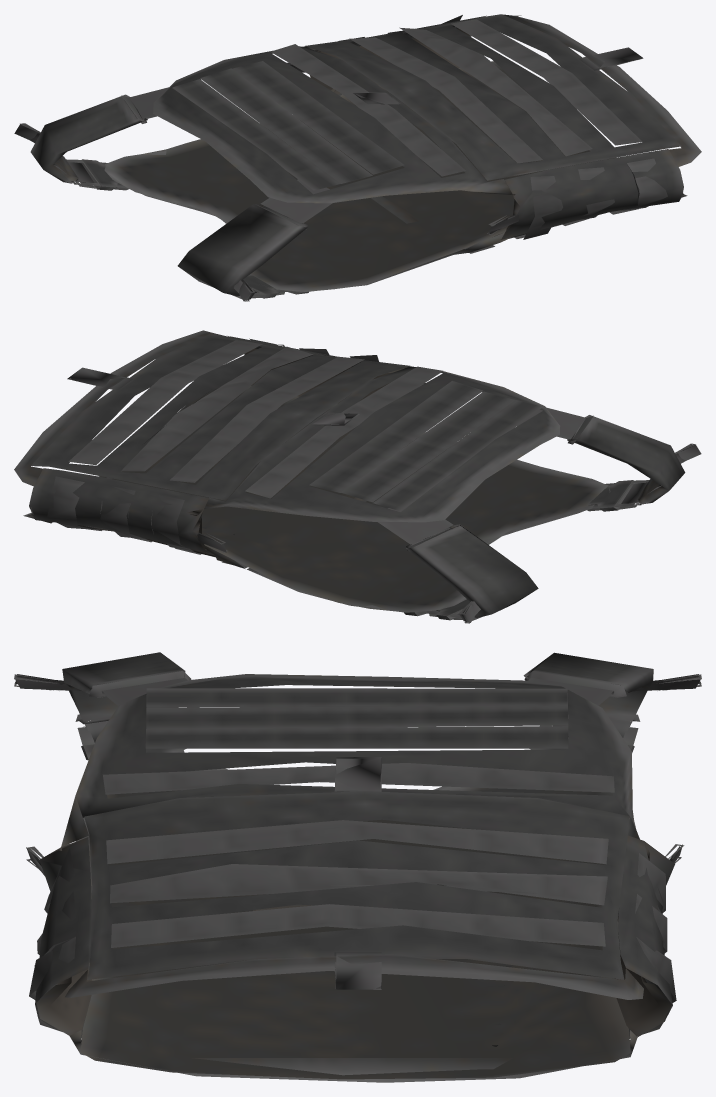
The model's file is GunRunnersVest_Ground.fbx.
3 views of the same model, one above another, from view 1: azimuth 30°, elevation 25°; view 2: azimuth 150°, elevation 25°; view 3: azimuth 270°, elevation 25° (orthographic). The views are drawn at different scales.
Visible parts, largest first — view 1: Army_man.002_Untitled.003; view 2: Army_man.002_Untitled.003; view 3: Army_man.002_Untitled.003.
Boxes of the visible parts, x1,y1,x2,y2 form: Army_man.002_Untitled.003: (14,14,701,301); Army_man.002_Untitled.003: (14,330,701,623); Army_man.002_Untitled.003: (14,652,701,1082).
Size of the model in its own units: 0.304 by 0.0588 by 0.2311.
